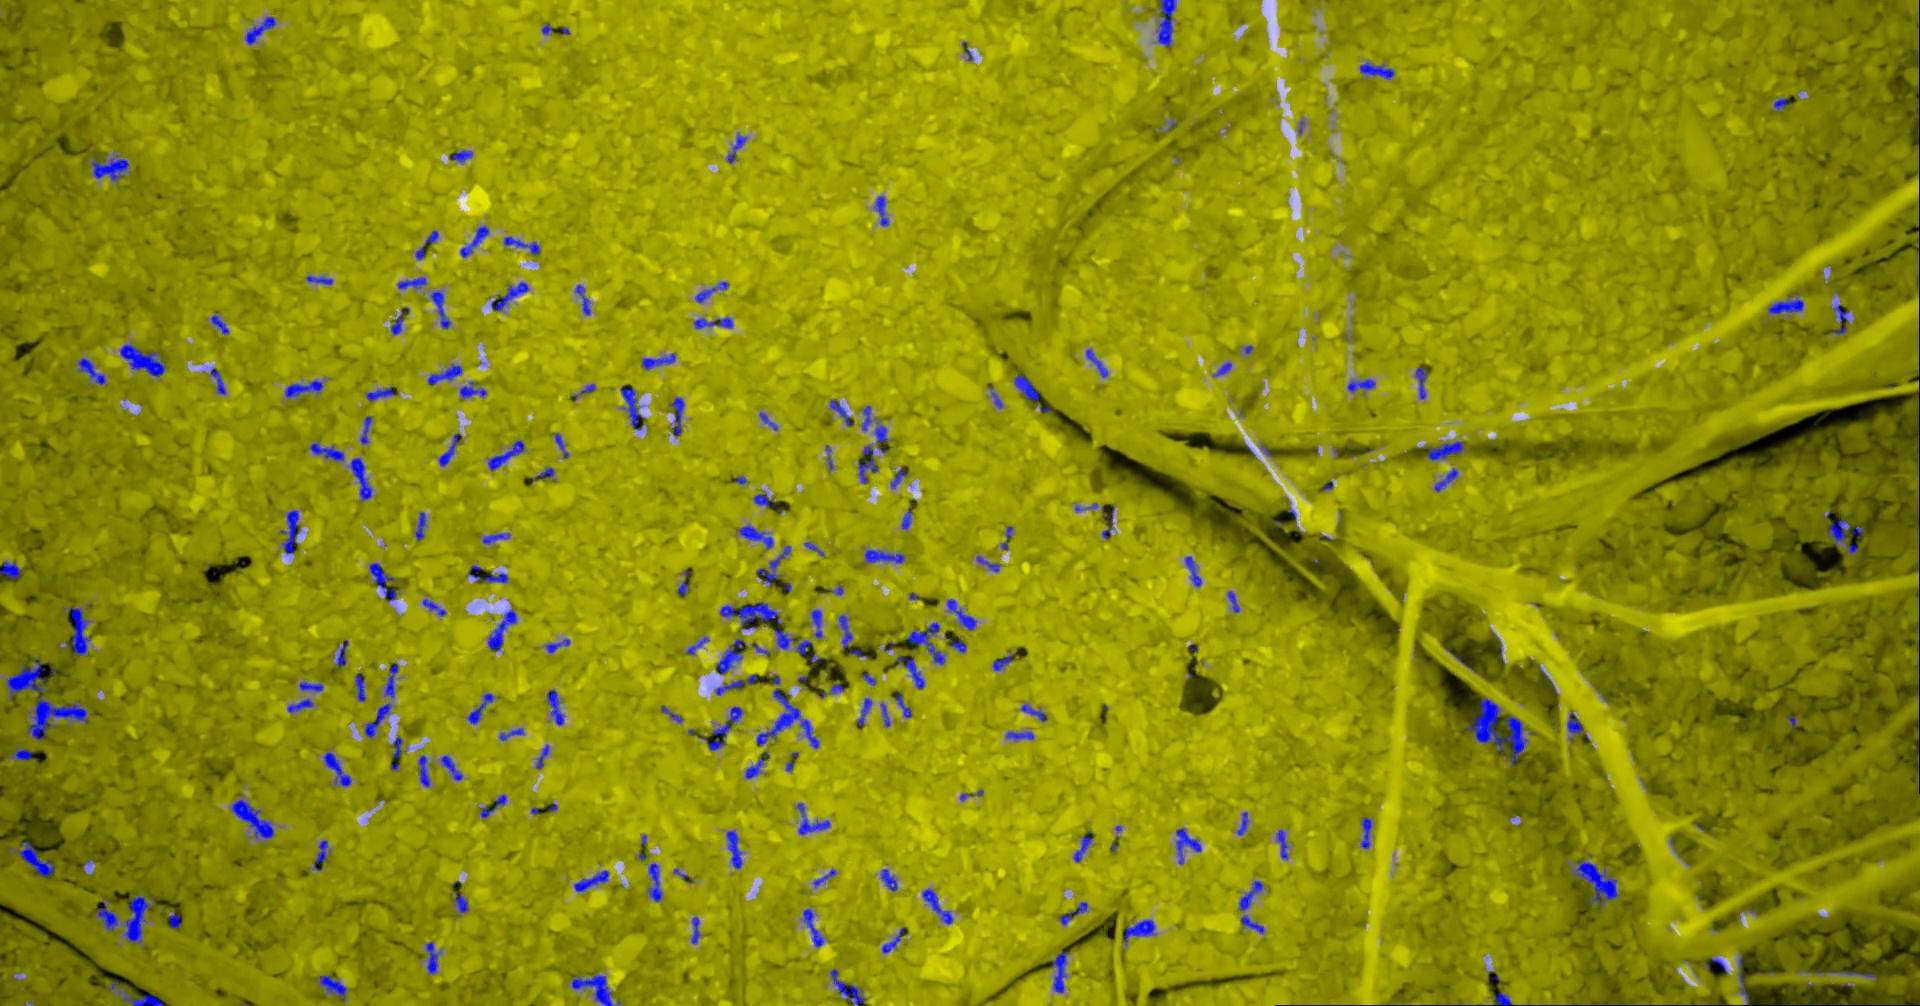ant: (756, 674, 819, 748), (719, 601, 795, 649), (1571, 860, 1618, 907), (8, 841, 55, 876), (231, 799, 273, 838), (905, 622, 943, 664), (707, 706, 742, 749), (571, 974, 620, 1005), (119, 344, 165, 376), (756, 545, 790, 586), (123, 895, 151, 942), (830, 968, 863, 1005), (488, 608, 516, 650), (921, 888, 952, 923), (488, 439, 524, 470), (715, 638, 745, 674), (490, 281, 528, 310), (796, 801, 829, 835), (620, 386, 644, 431), (368, 561, 396, 600), (67, 607, 89, 655), (323, 751, 350, 786), (91, 154, 128, 180), (458, 225, 489, 257), (897, 654, 924, 688), (1156, 0, 1176, 47), (364, 702, 391, 738), (1826, 518, 1863, 544), (1175, 827, 1200, 864), (350, 457, 372, 500), (946, 598, 977, 629), (714, 673, 756, 695), (279, 509, 300, 554), (244, 17, 276, 44), (738, 525, 773, 549), (466, 694, 493, 724), (803, 908, 823, 948), (1123, 920, 1156, 944), (430, 290, 451, 328), (857, 445, 877, 483), (695, 281, 728, 304), (77, 357, 105, 384), (1238, 880, 1263, 909), (284, 379, 323, 398), (427, 363, 462, 384), (573, 870, 608, 890), (438, 433, 460, 466), (744, 751, 770, 779), (1768, 293, 1803, 312), (1427, 441, 1463, 460), (118, 989, 163, 1005), (1059, 901, 1087, 925), (319, 976, 347, 1000), (1072, 829, 1092, 862), (415, 230, 438, 259), (95, 899, 117, 930), (546, 688, 564, 725), (309, 442, 343, 461), (469, 565, 508, 582), (1015, 373, 1039, 400), (829, 399, 853, 426), (479, 794, 505, 818), (1084, 349, 1107, 377), (503, 236, 538, 254), (881, 927, 905, 953), (1359, 61, 1393, 79), (641, 352, 676, 370), (726, 133, 747, 163), (1051, 950, 1065, 992), (1432, 467, 1457, 492), (439, 754, 462, 780), (726, 829, 742, 868), (863, 549, 904, 563), (1815, 970, 1877, 979), (1183, 555, 1201, 586), (648, 862, 662, 901), (1738, 954, 1749, 1005), (670, 398, 684, 434), (1020, 702, 1046, 721), (458, 381, 486, 399), (383, 663, 397, 699), (425, 941, 441, 973), (574, 285, 590, 314), (1567, 711, 1583, 741), (838, 614, 852, 648), (312, 840, 328, 870), (1415, 366, 1429, 399), (417, 754, 430, 788), (811, 868, 836, 887), (1239, 915, 1263, 934), (856, 697, 871, 727), (571, 384, 596, 401), (874, 196, 888, 226), (396, 276, 425, 290), (874, 423, 888, 452), (210, 367, 225, 394), (422, 598, 444, 616), (686, 636, 709, 654), (1347, 379, 1375, 392), (366, 386, 394, 400), (677, 567, 691, 594), (693, 318, 731, 328), (552, 432, 568, 457), (977, 555, 999, 572), (880, 868, 897, 890), (9, 746, 36, 760), (895, 692, 910, 716), (210, 314, 229, 333), (758, 412, 777, 431), (0, 560, 19, 579), (1360, 817, 1371, 848), (992, 653, 1013, 669), (660, 705, 682, 721), (287, 699, 312, 713), (498, 727, 523, 741), (1074, 502, 1105, 513), (1101, 508, 1112, 539), (988, 384, 1002, 408), (545, 638, 569, 652), (535, 744, 549, 768), (890, 467, 907, 488), (359, 415, 371, 445), (810, 608, 822, 638), (1276, 829, 1288, 859), (453, 890, 469, 912), (819, 683, 844, 696), (450, 149, 472, 163), (531, 467, 554, 481), (752, 493, 775, 507), (481, 532, 509, 544), (390, 310, 403, 334), (1236, 810, 1248, 835), (337, 639, 348, 666), (415, 511, 425, 540), (1832, 304, 1848, 323), (999, 526, 1012, 549), (1227, 589, 1239, 612), (947, 636, 966, 652), (354, 673, 364, 701), (1211, 362, 1230, 376), (861, 405, 871, 431), (1004, 730, 1032, 739), (298, 681, 323, 691), (879, 702, 889, 727), (305, 276, 331, 285), (690, 916, 698, 942), (796, 640, 811, 655), (392, 735, 403, 758), (168, 911, 180, 929), (1495, 992, 1511, 1005), (902, 506, 910, 528), (1773, 98, 1787, 111)
